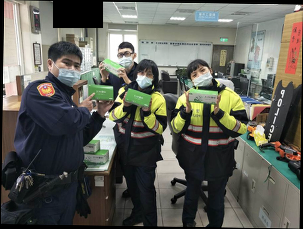with_mask: (52, 56, 82, 87), (190, 66, 214, 89), (135, 70, 155, 89), (116, 50, 135, 70)
